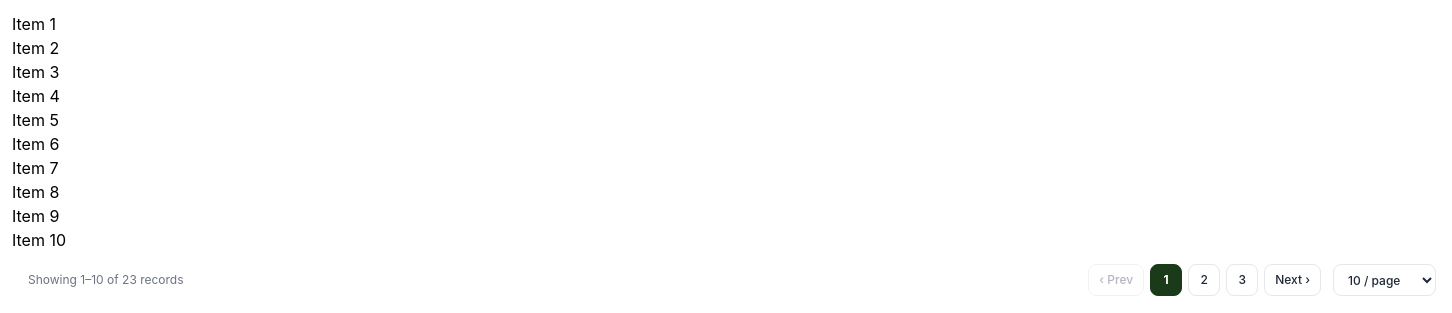
Scenario: Pagination › shows one page at a time and moves between pages
This screenshot has width=1452, height=313.
Expected: the text "Showing 1–10 of 23 records" is shown, x1=28 y1=271 x2=184 y2=289
Click the button named "Page 3": click(1242, 280) x1=1226 y1=264 x2=1258 y2=296
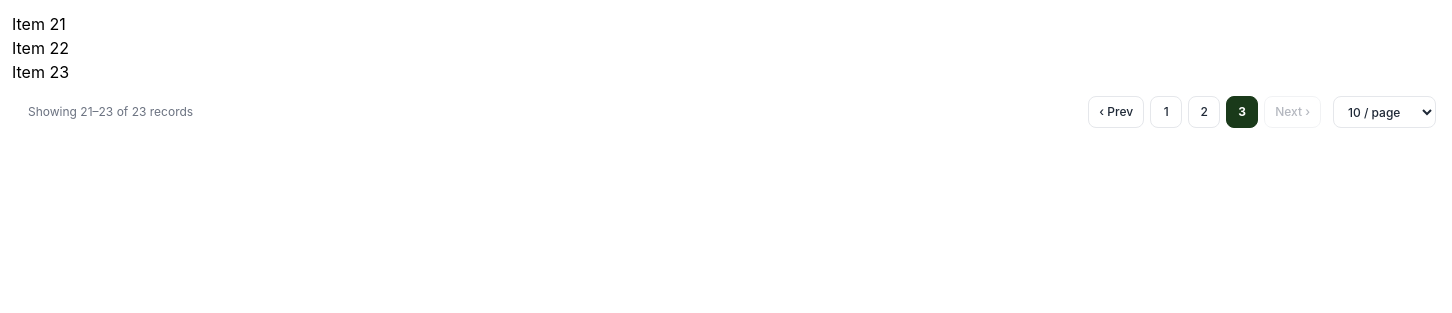
Expected: the number of list items is 3, x1=12 y1=14 x2=66 y2=34; x1=12 y1=38 x2=69 y2=58; x1=12 y1=62 x2=69 y2=82
Expected: the list item "Item 21" is shown, x1=12 y1=14 x2=66 y2=34
Expected: the button with aria-label "Next page" is disabled, x1=1264 y1=96 x2=1321 y2=128
